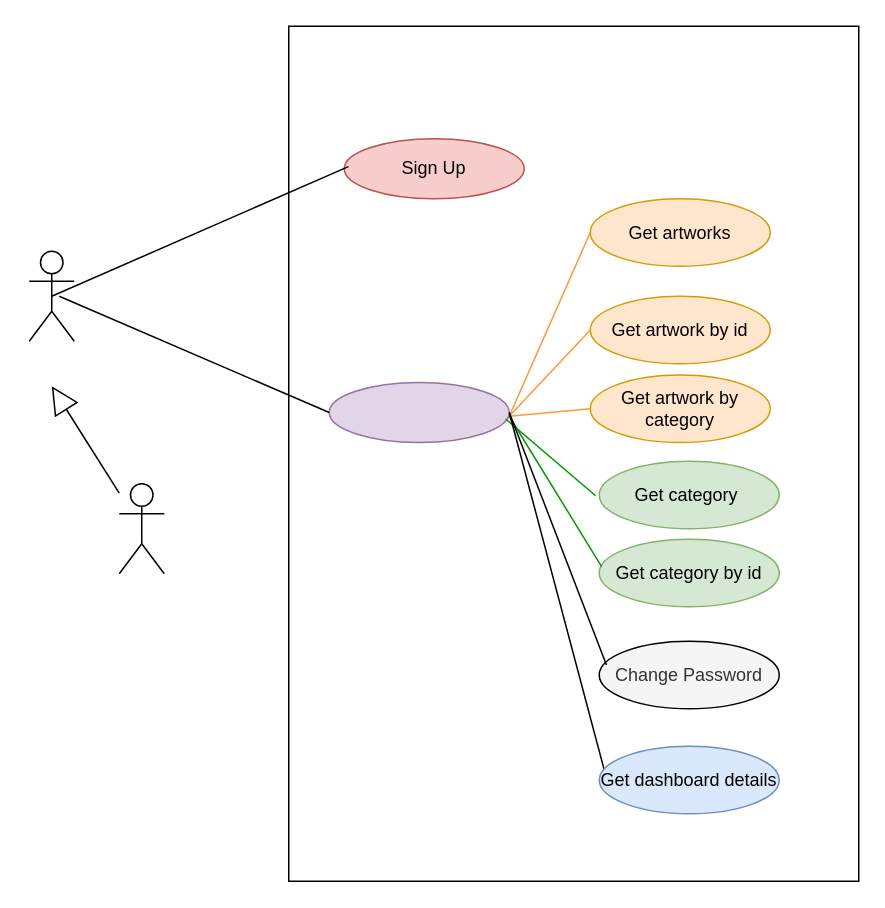
The diagram is 885 pixels wide and 908 high, and some of its shapes have lost their labels. The shapes that lost their labels are listed below. From the top down, each one's centre as x and y in pixels, then its label:
At [51,295]: "User".
At [418,411]: "Login".
At [141,528]: "Admin".
